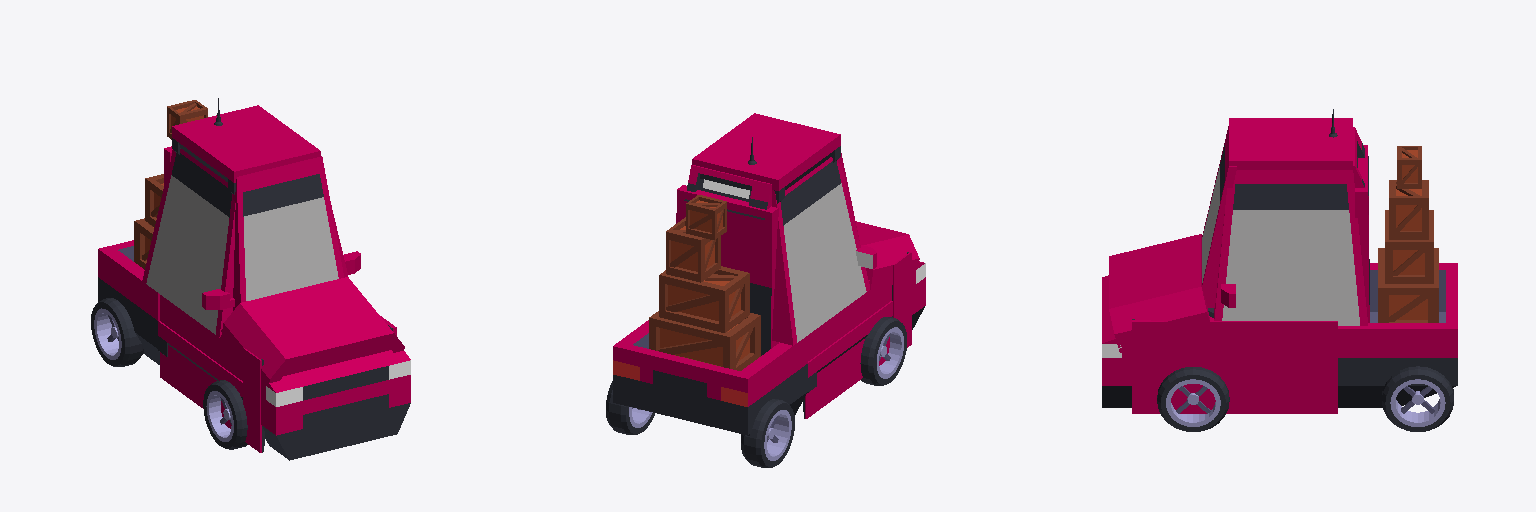
The model's file is Foodoracar_v3.obj.
3 views of the same model, side by side, from view 1: azimuth 30°, elevation 25°; view 2: azimuth 150°, elevation 25°; view 3: azimuth 270°, elevation 25° (orthographic).
Parts seen in each view (by area): view 1: body_topWindshield, body_edge, body_frontTruckFlat, spoiler_round, body_backBedClosed, wheel_backR, detail_crateLong, wheel_frontR, detail_mirror; view 2: body_edge, detail_crateLong, body_topWindshield, body_backBedClosed, body_topBackVan, wheel_backR, wheel_frontR, spoiler_round, body_topBackVanWindow%, wheel_backL, body_frontTruckFlat; view 3: body_topWindshield, body_edge, body_backBedClosed, detail_crateLong, spoiler_round, wheel_backL, wheel_frontL, body_frontTruckFlat, body_topBackVan, body_topBackVanWindow%.
Boxes of the visible parts, x1,y1,x2,y2 form: body_topWindshield: [142, 149, 347, 337]; body_edge: [158, 105, 396, 452]; body_frontTruckFlat: [261, 350, 410, 460]; spoiler_round: [221, 277, 404, 390]; body_backBedClosed: [98, 240, 159, 364]; wheel_backR: [91, 298, 143, 366]; detail_crateLong: [134, 100, 207, 269]; wheel_frontR: [203, 380, 247, 449]; detail_mirror: [202, 251, 360, 309]; body_edge: [692, 113, 911, 418]; detail_crateLong: [649, 195, 760, 370]; body_topWindshield: [772, 153, 869, 345]; body_backBedClosed: [613, 320, 807, 435]; body_topBackVan: [676, 185, 778, 355]; wheel_backR: [741, 399, 794, 467]; wheel_frontR: [860, 317, 906, 385]; spoiler_round: [856, 221, 919, 289]; body_topBackVanWindow%: [684, 165, 771, 219]; wheel_backL: [606, 381, 654, 434]; body_frontTruckFlat: [912, 261, 925, 329]; body_topWindshield: [1202, 126, 1367, 325]; body_edge: [1132, 118, 1352, 413]; body_backBedClosed: [1338, 263, 1457, 407]; detail_crateLong: [1378, 146, 1438, 322]; spoiler_round: [1109, 234, 1209, 352]; wheel_backL: [1382, 366, 1453, 431]; wheel_frontL: [1157, 367, 1229, 431]; body_frontTruckFlat: [1102, 275, 1131, 407]; body_topBackVan: [1355, 145, 1369, 322]; body_topBackVanWindow%: [1241, 127, 1368, 196].
Size of the model in its own units: 1.18 by 2 by 2.28.